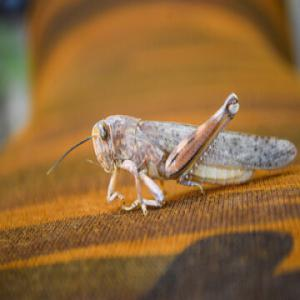locust: (62, 90, 299, 215)
